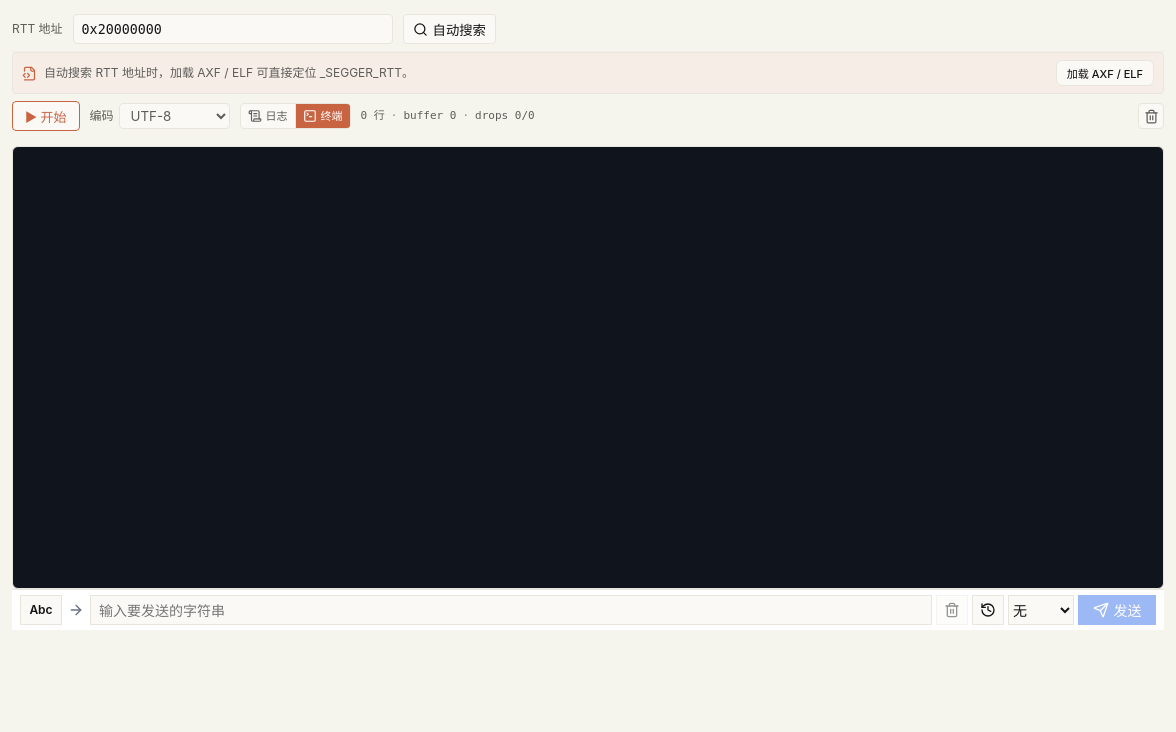
Test case: RttViewTab binary migration › groups RTT setup and stream controls into two compact rows
The width and height of the screenshot is (1176, 732).
Click the button with test id "rtt-log-mode": point(268, 116) [241,104,296,128]
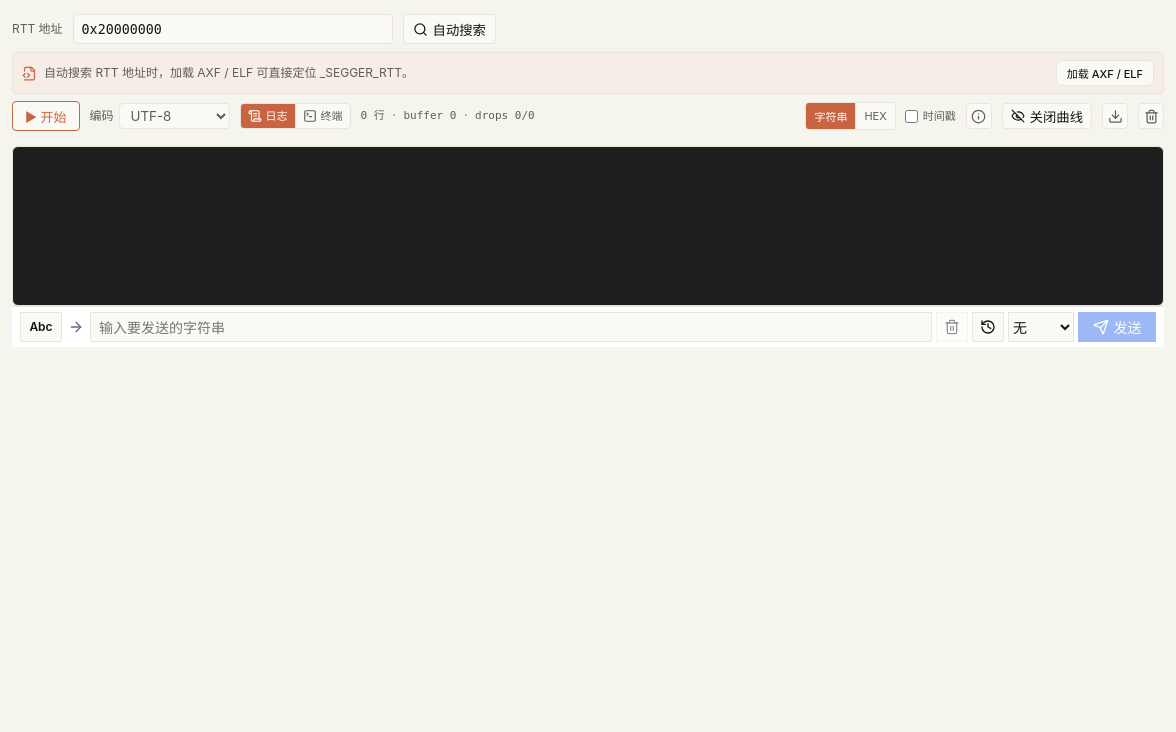
Expected: the element with class "rtt-address-row" is shown, [12,12,1164,52]
Result: the button with test id "rtt-chart-toggle" is shown at [1002,103,1092,129]
Click the button with test id "rtt-format-help": point(979, 116) [966,103,992,129]
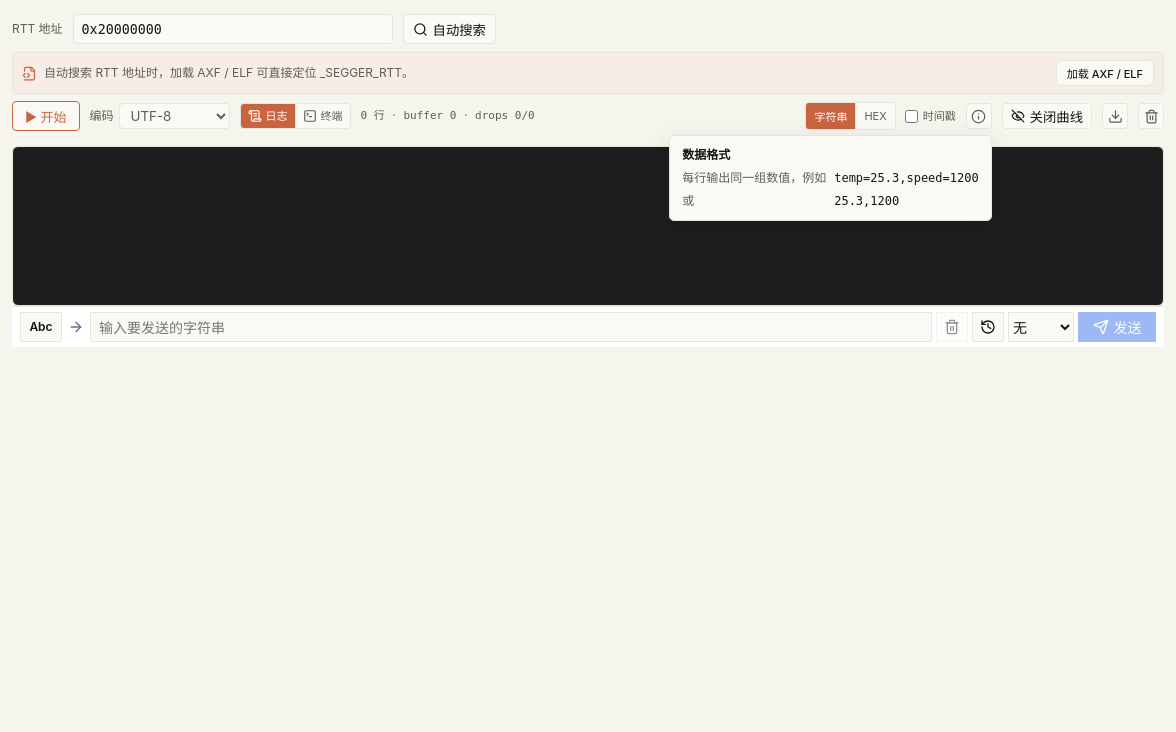
Result: the element with class "format-help-popover" shows "temp=25.3,speed=1200" at [834,171,979,185]
